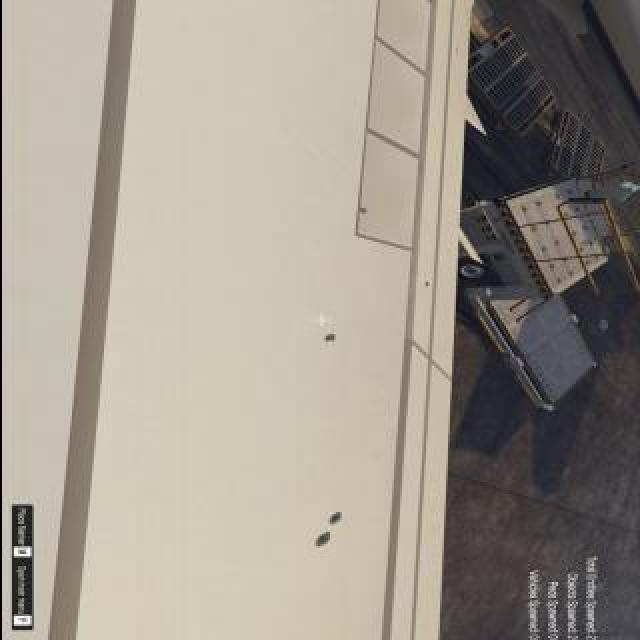crack: (325, 513, 345, 527), (313, 535, 333, 547), (323, 335, 339, 343), (358, 207, 368, 215), (422, 284, 430, 288)
